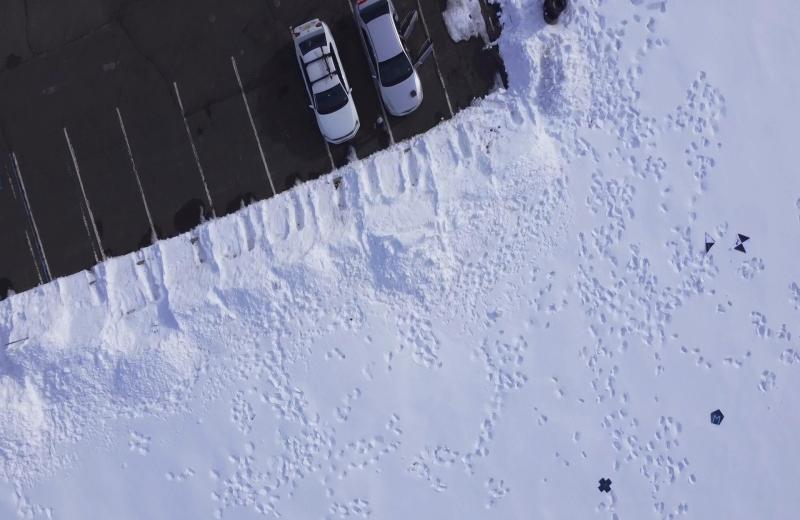Cross: (595, 476, 613, 496)
Pentagon: (709, 408, 726, 426)
